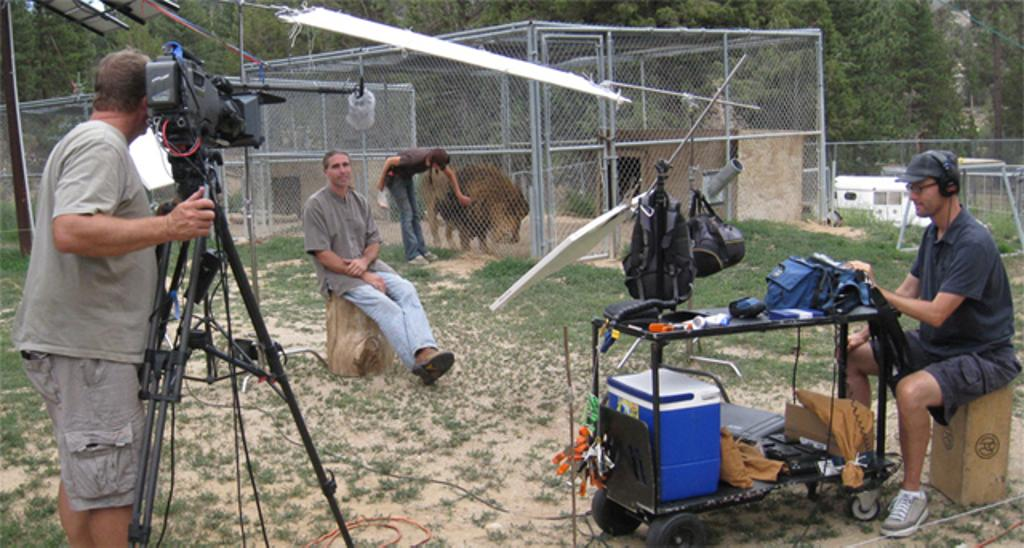face: (909, 177, 944, 216), (328, 155, 351, 186), (430, 161, 443, 169)
